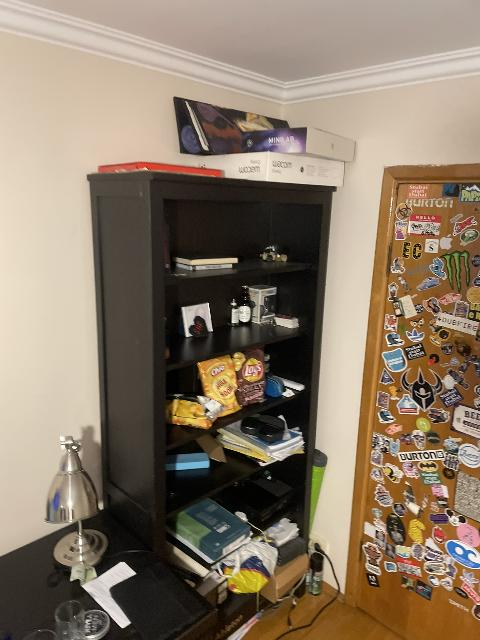Chio Cascaval 125g: (162, 392, 227, 429)
Chio Hula Hoops Cheese 70g: (196, 354, 244, 417)
Lays Beef Grilled Ribs 125g: (233, 350, 267, 405)
